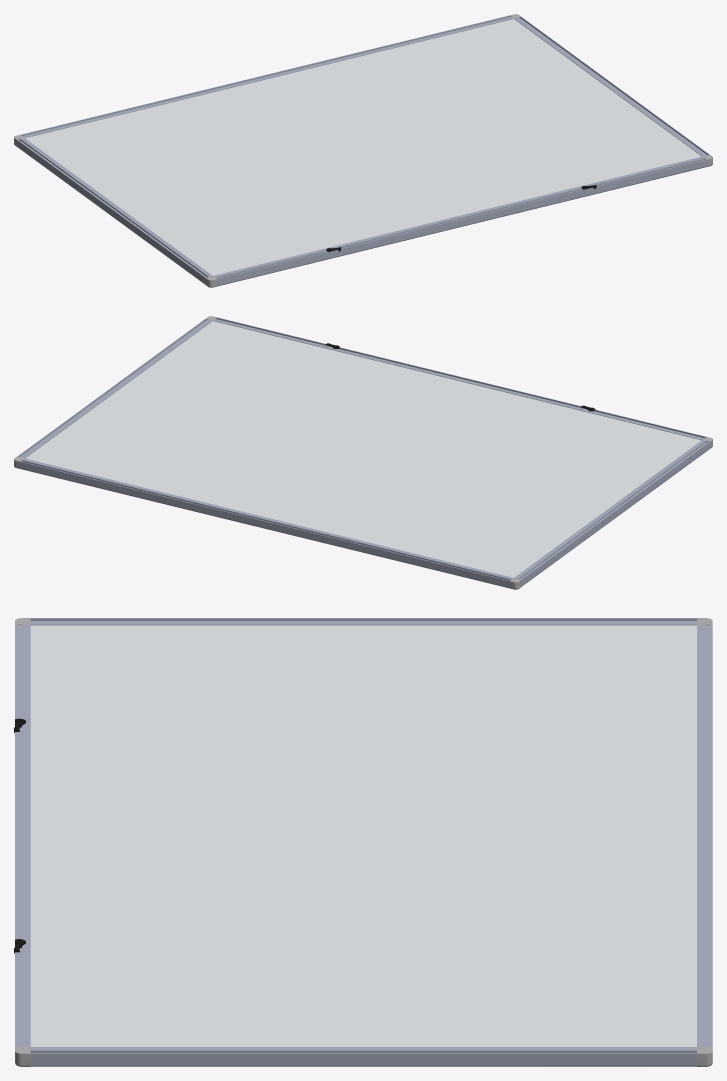
File: whiteboard.fbx
The picture shows the model from 3 angles, top to bottom: view 1: azimuth 30°, elevation 25°; view 2: azimuth 150°, elevation 25°; view 3: azimuth 270°, elevation 25°; orthographic projection. The views are drawn at different scales.
Visible parts, largest first — view 1: G_3DGeom_14, G_3DGeom_46, G_3DGeom_72, G_3DGeom_46_1, G_3DGeom_72_1; view 2: G_3DGeom_14, G_3DGeom_46_1, G_3DGeom_72, G_3DGeom_46, G_3DGeom_72_1, Group1; view 3: G_3DGeom_14, G_3DGeom_72_1, G_3DGeom_46_1, G_3DGeom_46, G_3DGeom_72.
Part boxes in pixels (x1,y1,x2,y2): G_3DGeom_14: [25, 19, 701, 275]; G_3DGeom_46: [213, 156, 706, 286]; G_3DGeom_72: [17, 138, 212, 284]; G_3DGeom_46_1: [20, 15, 513, 138]; G_3DGeom_72_1: [514, 17, 709, 156]; G_3DGeom_14: [25, 321, 701, 577]; G_3DGeom_46_1: [20, 458, 513, 588]; G_3DGeom_72: [514, 440, 709, 586]; G_3DGeom_46: [213, 317, 706, 440]; G_3DGeom_72_1: [17, 319, 212, 458]; Group1: [16, 468, 512, 589]; G_3DGeom_14: [30, 625, 696, 1046]; G_3DGeom_72_1: [30, 1047, 696, 1066]; G_3DGeom_46_1: [697, 624, 712, 1046]; G_3DGeom_46: [15, 624, 30, 1046]; G_3DGeom_72: [30, 618, 696, 625].
Size of the model in its own units: 74.39 by 1.3 by 50.44.
